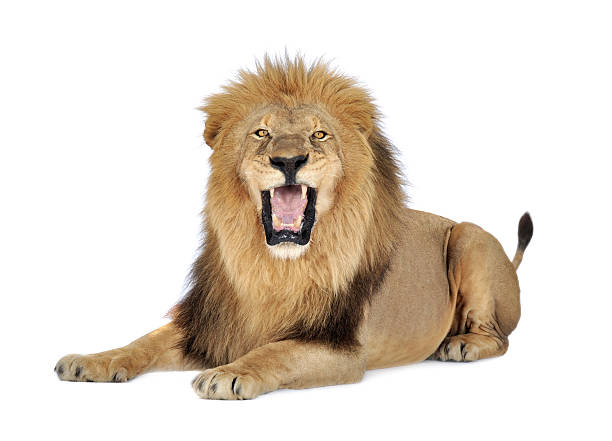lion: (150, 39, 408, 397)
